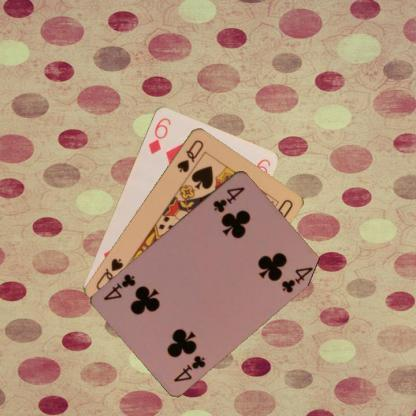4c: (170, 352, 208, 384), (210, 184, 246, 214)
6d: (146, 115, 172, 156)
Qs: (174, 136, 205, 174)
